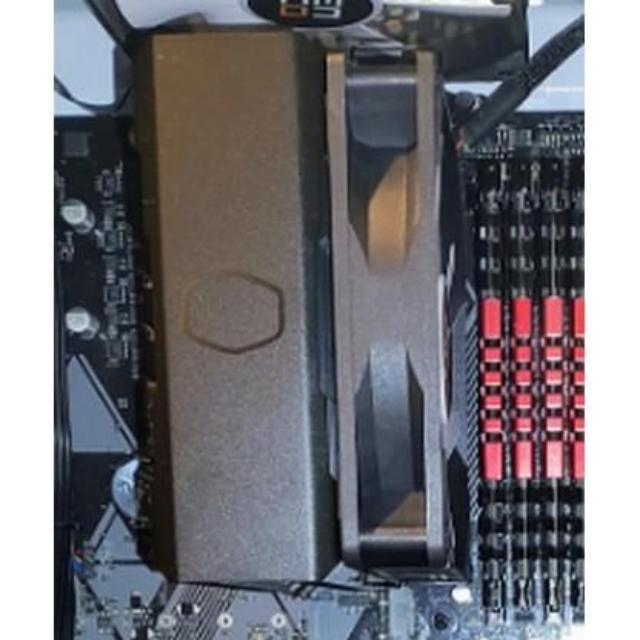CPU_Fan: (140, 12, 458, 592)
